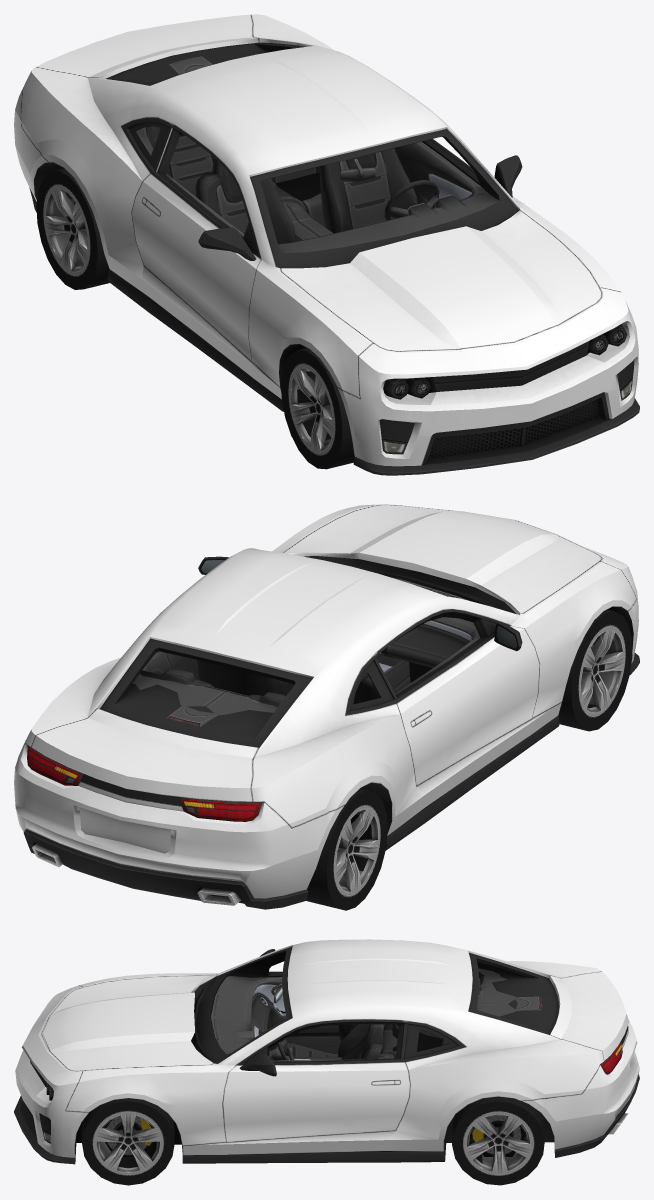
The model's file is Chevrolet Camaro.fbx.
The picture shows the model from 3 angles, top to bottom: view 1: azimuth 30°, elevation 25°; view 2: azimuth 150°, elevation 25°; view 3: azimuth 270°, elevation 25°; orthographic projection. The views are drawn at different scales.
Parts seen in each view (by area): view 1: Body_3, Matte_3, Interior_3, Wheel_R, Wheel_Back_R, Steering_wheel; view 2: Body_3, Matte_3, Interior_3, Wheel_Back_R, Wheel_R, Taillights_3; view 3: Body_3, Matte_3, Interior_3, Wheel_Back_L, Wheel_L, break_L, Steering_wheel.
Part boxes in pixels (x1,y1,x2,y2): Body_3: [14, 14, 638, 466]; Matte_3: [29, 42, 639, 475]; Interior_3: [136, 56, 498, 253]; Wheel_R: [281, 348, 354, 469]; Wheel_Back_R: [36, 168, 109, 289]; Steering_wheel: [384, 180, 439, 220]; Body_3: [14, 504, 638, 898]; Matte_3: [23, 556, 639, 909]; Interior_3: [132, 577, 480, 726]; Wheel_Back_R: [306, 789, 387, 910]; Wheel_R: [558, 609, 632, 731]; Taillights_3: [27, 745, 262, 821]; Body_3: [15, 939, 639, 1157]; Matte_3: [14, 946, 639, 1164]; Interior_3: [211, 968, 542, 1061]; Wheel_Back_L: [452, 1096, 544, 1185]; Wheel_L: [82, 1098, 174, 1185]; break_L: [105, 1116, 151, 1156]; Steering_wheel: [269, 1038, 294, 1060].
Size of the model in its own units: 215 by 136 by 477.
